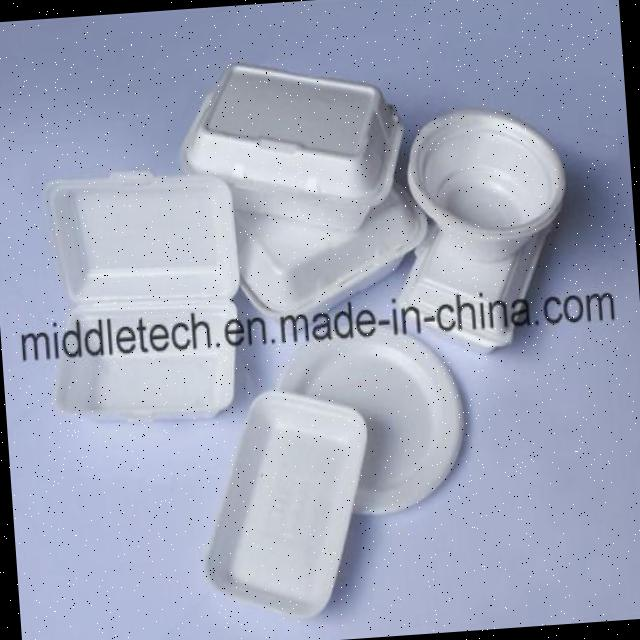styrofoam: (37, 160, 250, 430), (379, 98, 577, 359), (172, 48, 410, 244), (192, 382, 380, 626)
